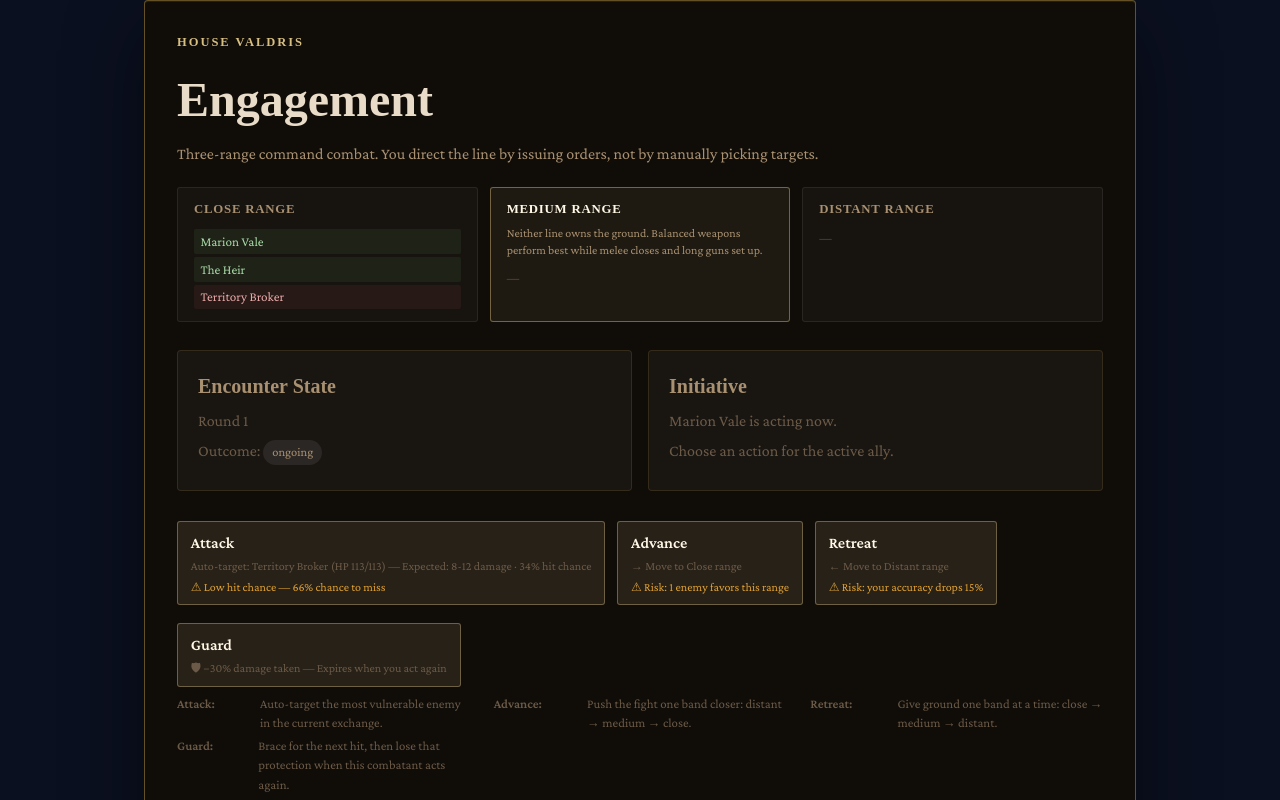
CombatScreen › renders and resolves an active encounter
This screenshot has width=1280, height=800.
Expected: the text "Round 1" is shown, [198,412,248,429]
Expected: the text "Three-range command combat" is shown, [177,145,818,162]
Click the button "Attack" at (391, 563), box [177,521,605,605]
(page scrolled)
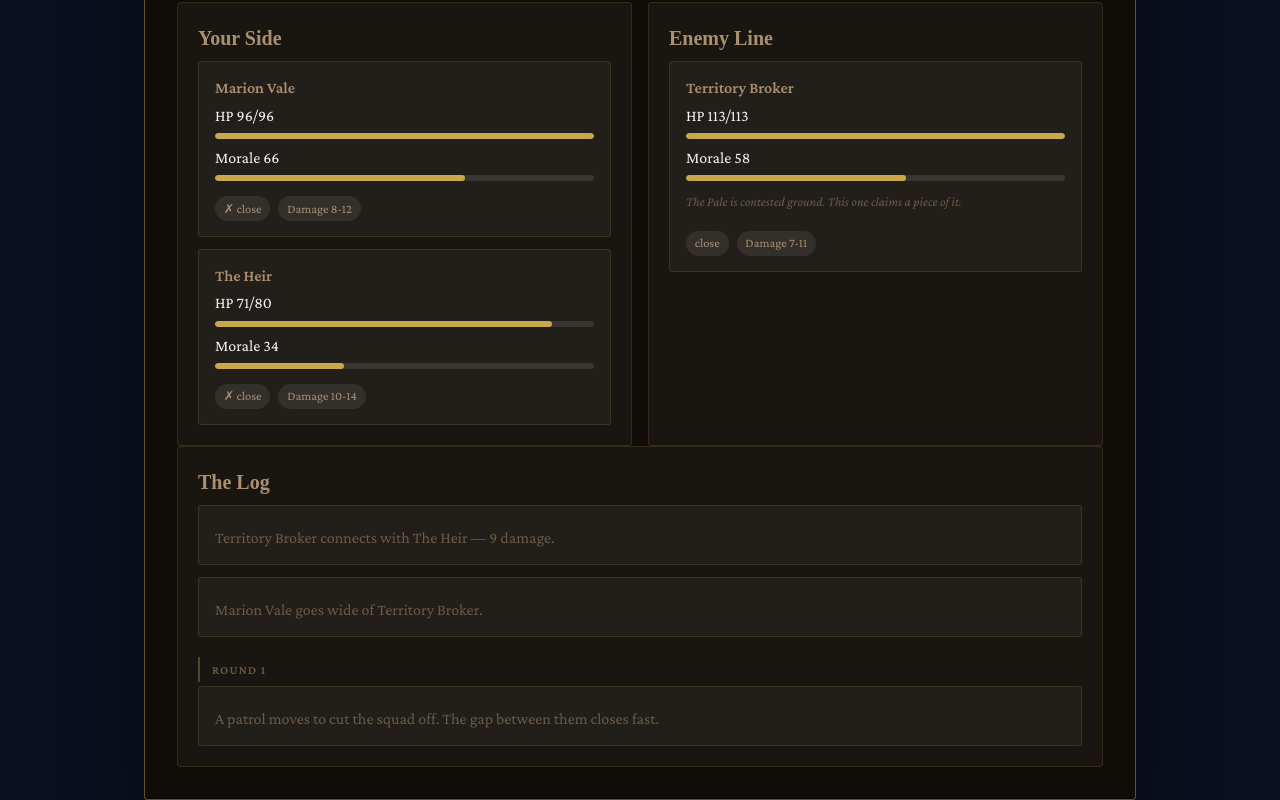
Expected: the text "Territory Broker connects with The Heir — 9 damage." is shown, [215,529,555,546]
